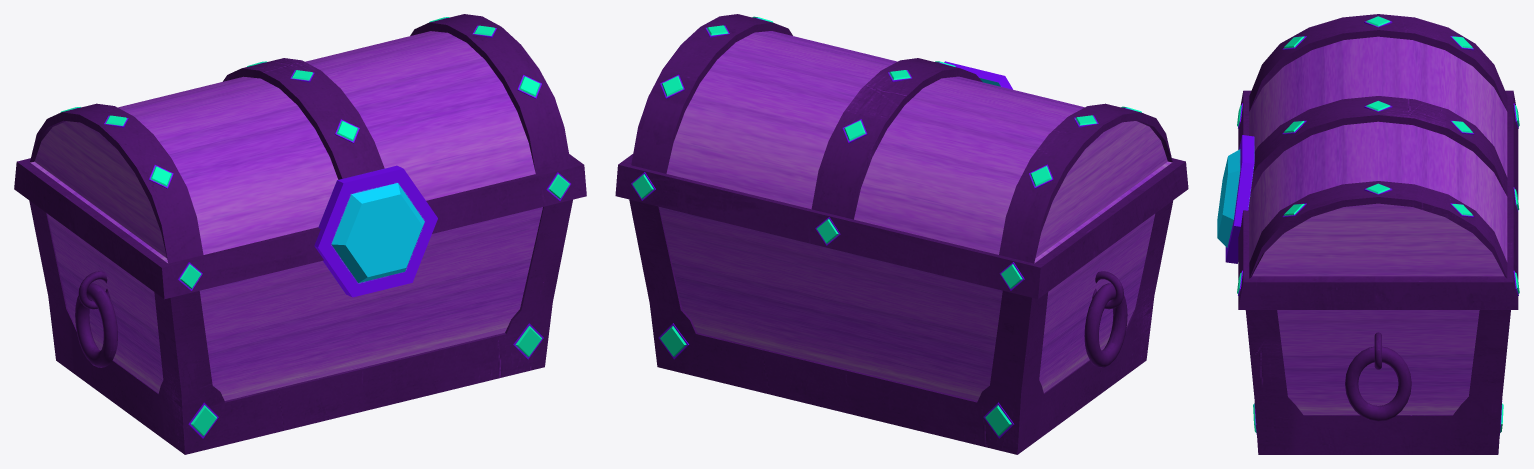
Rendered from ChestFull.fbx.
3 views of the same model, side by side, from view 1: azimuth 30°, elevation 25°; view 2: azimuth 150°, elevation 25°; view 3: azimuth 270°, elevation 25° (orthographic). The views are drawn at different scales.
Parts seen in each view (by area): view 1: ChestFull; view 2: ChestFull; view 3: ChestFull.
Part boxes in pixels (left/top/right/bottom): ChestFull: left=14, top=14, right=586, bottom=454; ChestFull: left=615, top=14, right=1188, bottom=454; ChestFull: left=1217, top=14, right=1519, bottom=454.
Bounding box in the file's own units: 426 × 266 × 271.
Materials: 3 (3 with a texture image).
